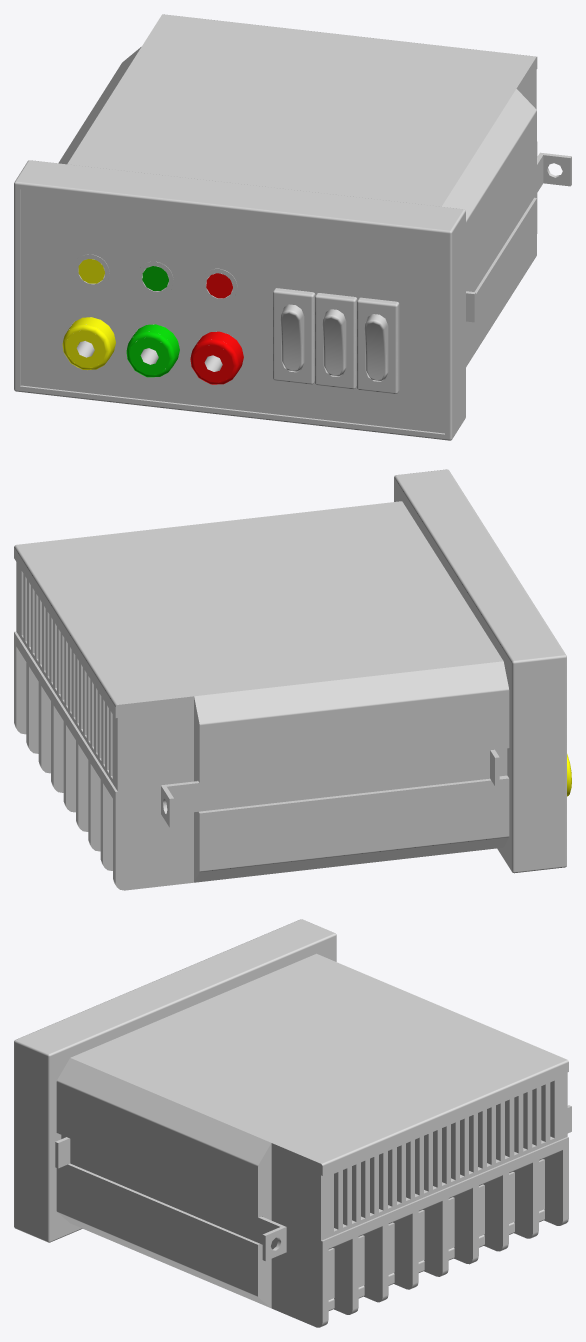
File: 04.5_blok-indikatsii-napryazheniya-evi-r.glb
The picture shows the model from 3 angles, top to bottom: view 1: azimuth 30°, elevation 25°; view 2: azimuth 150°, elevation 25°; view 3: azimuth 270°, elevation 25°; orthographic projection. The views are drawn at different scales.
Parts seen in each view (by area): view 1: 04.5_blok-indikatsii-napryazheniya-evi-r; view 2: 04.5_blok-indikatsii-napryazheniya-evi-r; view 3: 04.5_blok-indikatsii-napryazheniya-evi-r.
Boxes of the visible parts, bbox=[...] form: 04.5_blok-indikatsii-napryazheniya-evi-r: bbox=[14, 14, 571, 440]; 04.5_blok-indikatsii-napryazheniya-evi-r: bbox=[14, 469, 571, 890]; 04.5_blok-indikatsii-napryazheniya-evi-r: bbox=[14, 919, 571, 1327].
Size of the model in its own units: 131 by 49 by 131.
